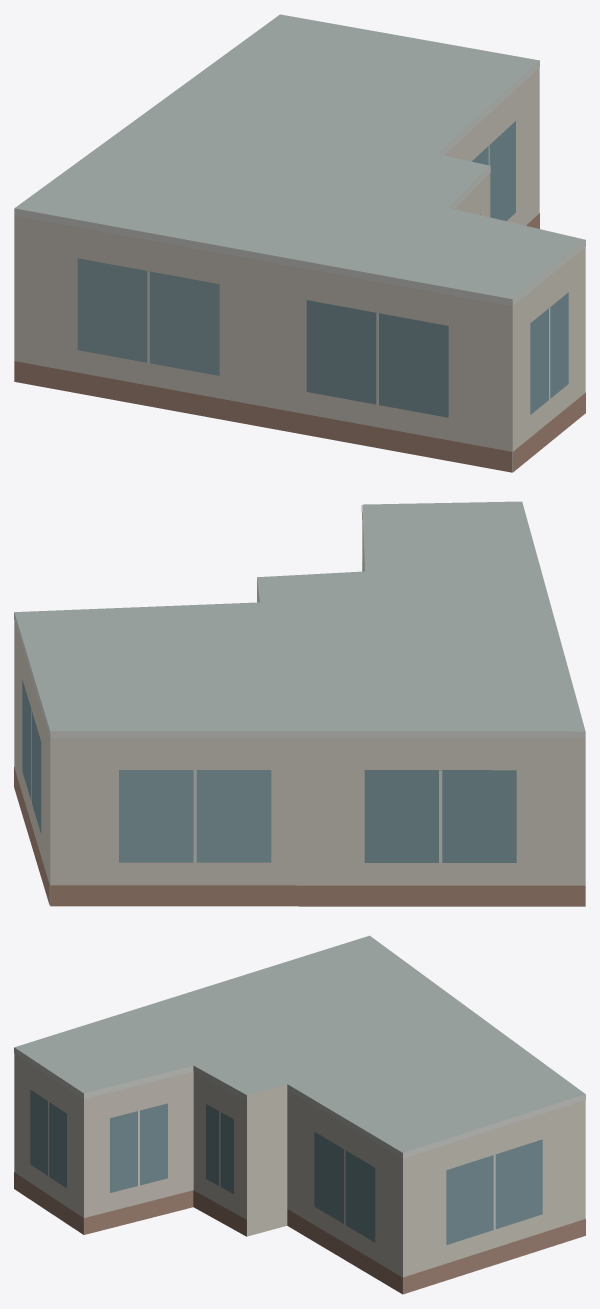
Rendered from survey-upis-32970712.glb.
3 renders of one model, top to bottom at view 1: azimuth 30°, elevation 25°; view 2: azimuth 150°, elevation 25°; view 3: azimuth 270°, elevation 25°, orthographic. The views are drawn at different scales.
Visible parts, largest first — view 1: survey-upis-32970712.tmp; view 2: survey-upis-32970712.tmp; view 3: survey-upis-32970712.tmp.
Boxes of the visible parts, box(x1,y1,x2,y2) form: survey-upis-32970712.tmp: box(14, 14, 585, 472); survey-upis-32970712.tmp: box(14, 501, 585, 906); survey-upis-32970712.tmp: box(14, 935, 585, 1294).
Size of the model in its own units: 10.06 by 3.05 by 11.17.
